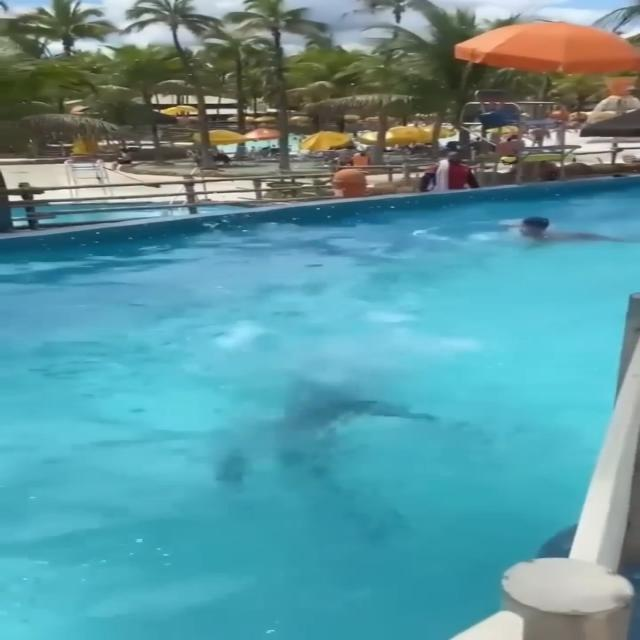Drowning: (210, 377, 424, 483)
Swimming: (494, 210, 621, 248)
